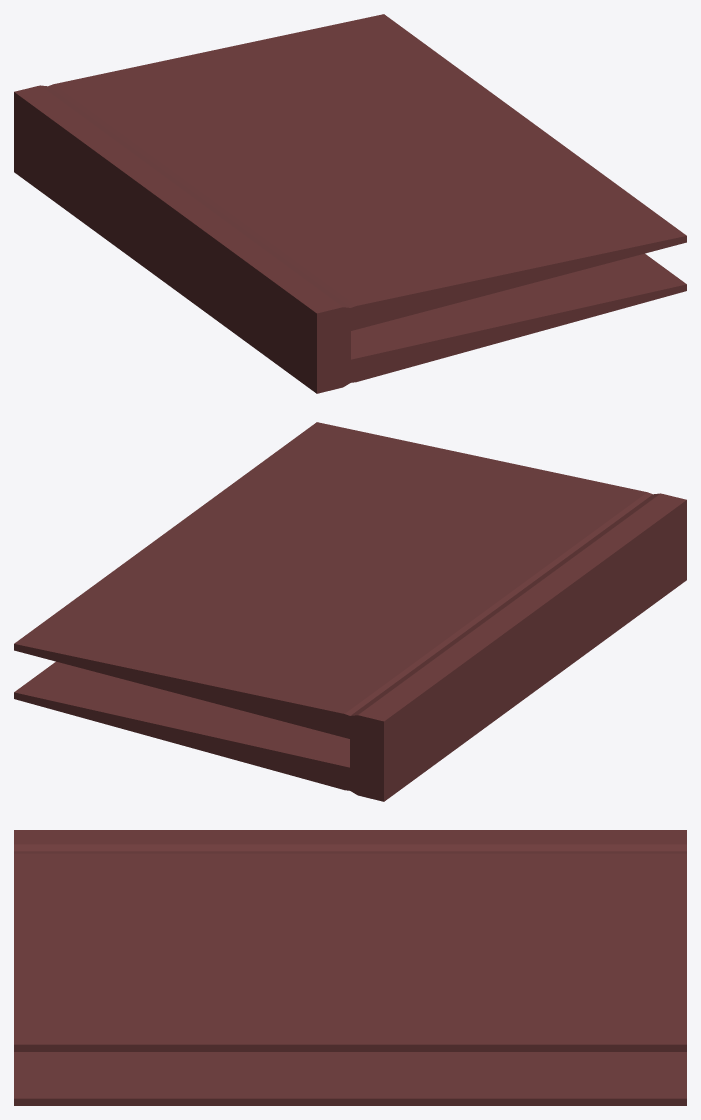
3 renders of one model, top to bottom at view 1: azimuth 30°, elevation 25°; view 2: azimuth 150°, elevation 25°; view 3: azimuth 270°, elevation 25°, orthographic. The views are drawn at different scales.
Parts seen in each view (by area): view 1: Cube.066; view 2: Cube.066; view 3: Cube.066.
Boxes of the visible parts, x1,y1,x2,y2 form: Cube.066: [14, 14, 686, 393]; Cube.066: [14, 422, 686, 801]; Cube.066: [14, 830, 686, 1105].
Bounding box in the file's own units: 33.39 × 6.93 × 47.33.
